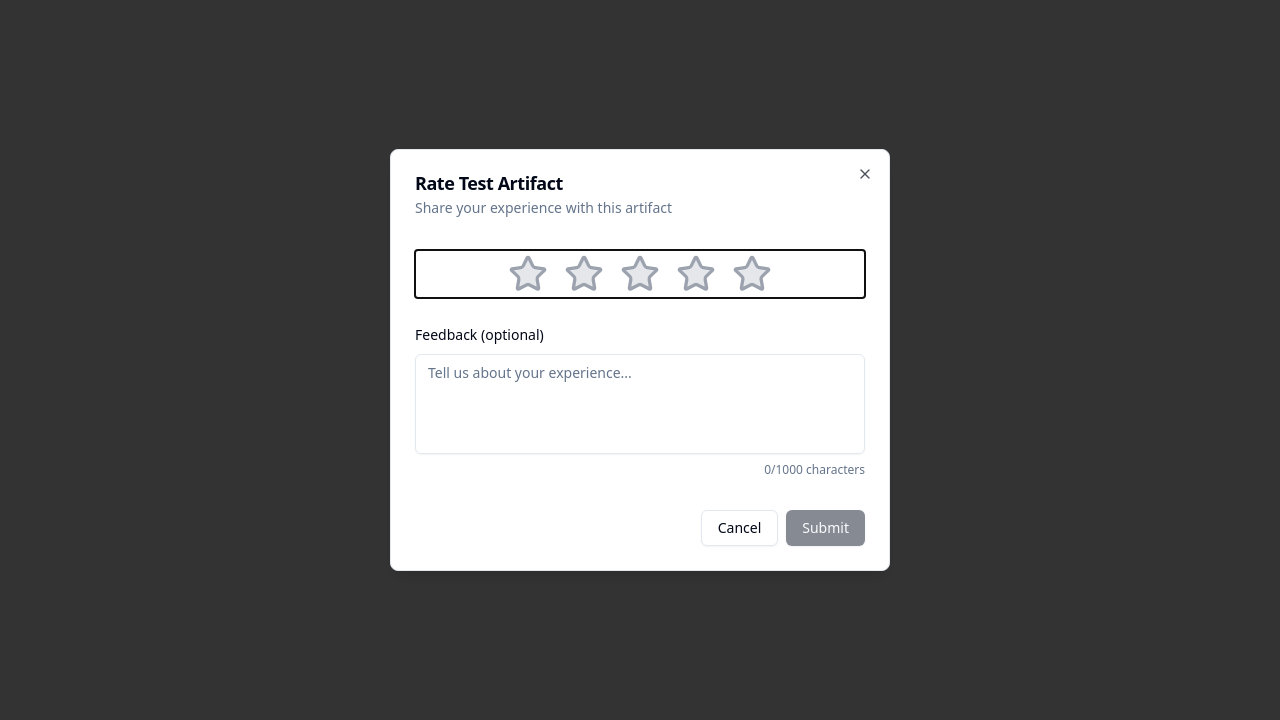
RatingDialog › Star Selection (Mouse) › shows preview on hover
This screenshot has width=1280, height=720.
# Hover shows preview (stars become filled)
Hover over the button named "Rate 4 stars" at (696, 274), box [672,250,720,298]
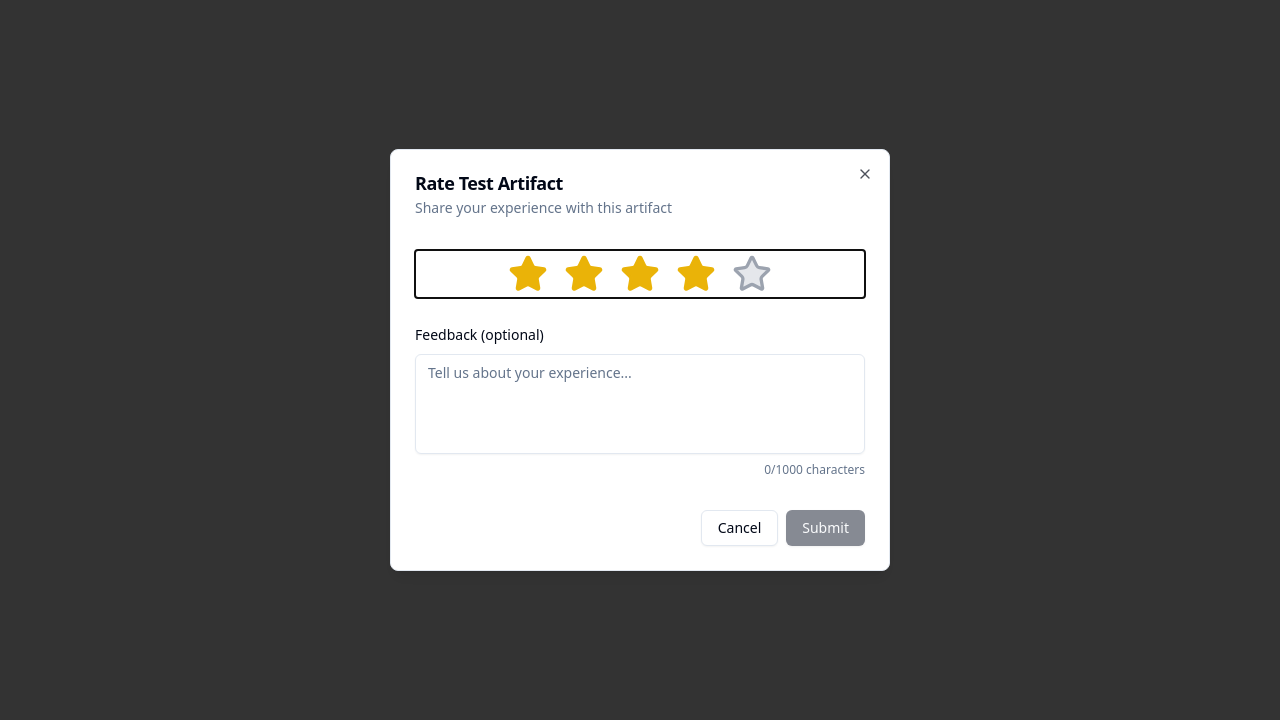
# Click sets rating
Click the button named "Rate 4 stars" at (696, 274), box [672,250,720,298]
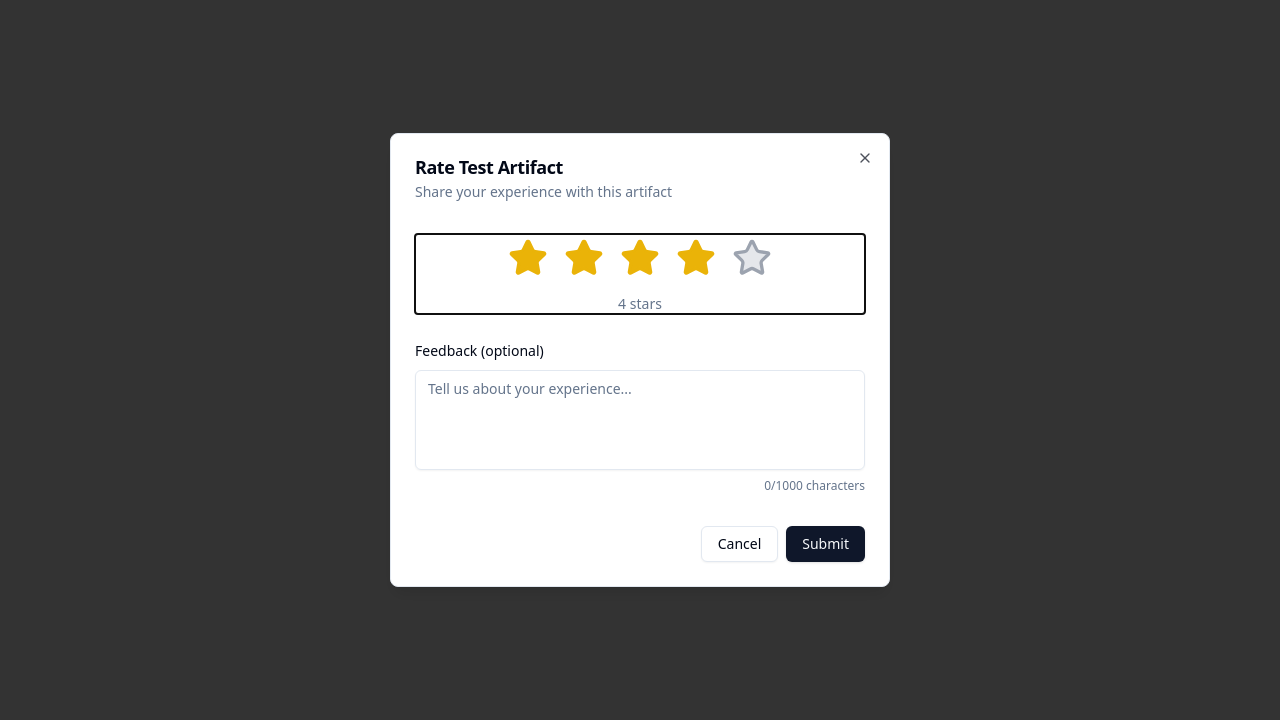
expect the text "4 stars" is shown: met, box [618,294,662,314]
